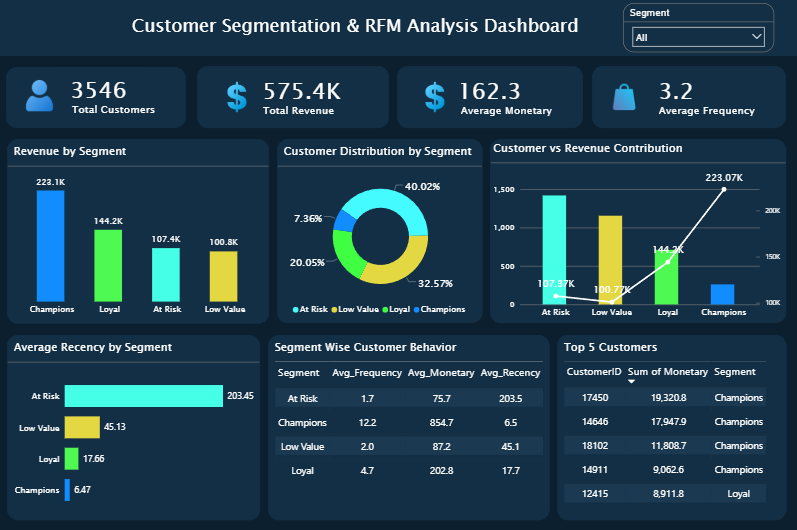

The page's visual inventory and layout, read from the dashboard file:
{"tool":"powerbi","page":{"name":"Page 1","canvas":[1430,950],"ordinal":0},"visuals":[{"type":"textbox","box":[0,0,1435.7,100],"z":0},{"type":"textbox","box":[16.1,119.6,321.4,108.9],"z":1000},{"type":"textbox","box":[357.1,117.9,342.9,110.7],"z":2000},{"type":"textbox","box":[714.3,117.9,332.1,110.7],"z":3000},{"type":"textbox","box":[1062.5,117.9,346.4,110.7],"z":4000},{"type":"card","fields":{"Values":["retail rfm_scores.Total_Customers"]},"box":[101,119.6,158.9,78.6],"z":5000},{"type":"card","fields":{"Values":["retail rfm_scores.Total_Revenue"]},"box":[448.3,120.7,191.4,79.3],"z":6000},{"type":"card","fields":{"Values":["retail rfm_scores.Avg_Monetary"]},"box":[794.8,127.6,170.7,69],"z":7000},{"type":"card","fields":{"Values":["retail rfm_scores.Avg_Frequency"]},"box":[1144.8,136.2,136.2,51.7],"z":8000},{"type":"donutChart","title":"Customer Distribution by Segment","fields":{"Category":["retail rfm_scores.Segment"],"Y":["CountNonNull(retail rfm_scores.CustomerID)"]},"box":[500,248.3,367.2,329.3],"z":9000},{"type":"columnChart","title":"Revenue by Segment","fields":{"Category":["retail rfm_scores.Segment"],"Y":["Sum(retail rfm_scores.Monetary)"]},"box":[17.9,248.2,467.9,330.4],"z":10000},{"type":"tableEx","title":"Segment Wise Customer Behavior","fields":{"Values":["retail rfm_scores.Segment","retail rfm_scores.Avg_Frequency","retail rfm_scores.Avg_Monetary","retail rfm_scores.Avg_Recency"]},"box":[484.5,598.3,503.4,331],"z":11000},{"type":"clusteredBarChart","title":"Average Recency by Segment","fields":{"Category":["retail rfm_scores.Segment"],"Y":["Avg(retail rfm_scores.Recency)"]},"box":[17.2,598.3,451.7,331],"z":12000},{"type":"tableEx","title":"Top 5 Customers","fields":{"Values":["retail rfm_scores.CustomerID","Sum(retail rfm_scores.Monetary)","retail rfm_scores.Segment"]},"box":[1000,598,409.8,331.4],"z":13000},{"type":"slicer","title":"Segment ","fields":{"Values":["retail rfm_scores.Segment"]},"box":[1117.9,5.4,269.6,87.5],"z":14000},{"type":"textbox","box":[128.6,176.8,182.1,37.5],"z":15000},{"type":"image","box":[42.9,126.8,66.1,87.5],"z":16000},{"type":"image","box":[387.5,130.4,82.1,85.7],"z":17000},{"type":"image","box":[1062.5,144.6,114.3,57.1],"z":18000},{"type":"textbox","box":[470,178.3,151.7,43.3],"z":19000},{"type":"image","box":[741.1,130.4,82.1,85.7],"z":20000},{"type":"textbox","box":[823.3,178.3,188.3,43.3],"z":21000},{"type":"textbox","box":[1176.8,178.6,192.9,42.9],"z":22000},{"type":"lineClusteredColumnComboChart","title":"Customer vs Revenue Contribution","fields":{"Category":["retail rfm_scores.Segment"],"Y":["CountNonNull(retail rfm_scores.CustomerID)"],"Y2":["Sum(retail rfm_scores.Monetary)"]},"box":[880.4,249,529.4,329.4],"z":23000},{"type":"textbox","box":[236.2,17.2,822.4,65.5],"z":24000}]}

Visuals, with their boxes in screenshot pixels (x1, y1, x2, y2), scaled from the page's 1430x950 canvas onto the 797x530 screenshot:
textbox: crop(0, 0, 796, 56)
textbox: crop(9, 67, 188, 127)
textbox: crop(199, 66, 390, 128)
textbox: crop(398, 66, 583, 128)
textbox: crop(592, 66, 785, 128)
card - retail rfm_scores.Total_Customers: crop(56, 67, 145, 111)
card - retail rfm_scores.Total_Revenue: crop(250, 67, 357, 112)
card - retail rfm_scores.Avg_Monetary: crop(443, 71, 538, 110)
card - retail rfm_scores.Avg_Frequency: crop(638, 76, 714, 105)
"Customer Distribution by Segment" donutChart: crop(279, 139, 483, 322)
"Revenue by Segment" columnChart: crop(10, 138, 271, 323)
"Segment Wise Customer Behavior" tableEx: crop(270, 334, 551, 518)
"Average Recency by Segment" clusteredBarChart: crop(10, 334, 261, 518)
"Top 5 Customers" tableEx: crop(557, 334, 786, 519)
"Segment " slicer: crop(623, 3, 773, 52)
textbox: crop(72, 99, 173, 120)
image: crop(24, 71, 61, 120)
image: crop(216, 73, 262, 121)
image: crop(592, 81, 656, 113)
textbox: crop(262, 99, 346, 124)
image: crop(413, 73, 459, 121)
textbox: crop(459, 99, 564, 124)
textbox: crop(656, 100, 763, 124)
"Customer vs Revenue Contribution" lineClusteredColumnComboChart: crop(491, 139, 786, 323)
textbox: crop(132, 10, 590, 46)
